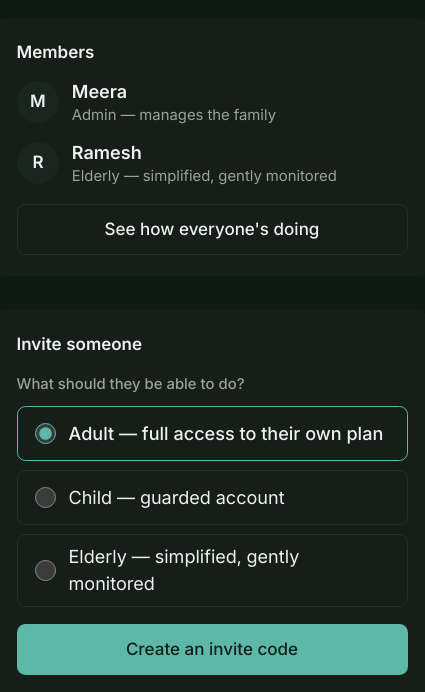
Test: family screen — in a family › shows an issued code once, and says so
(page scrolled)
Click the button "Create an invite code" at (212, 649), box [16,624,408,675]
(page scrolled)
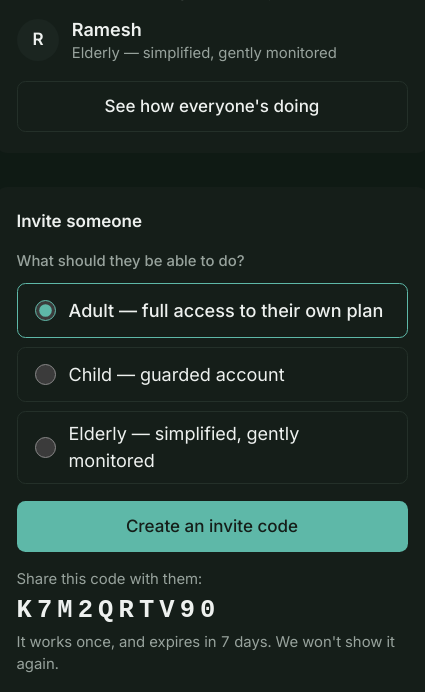
Expected: the text "K7M2QRTV90" is shown, [16,596,220,625]
Expected: the text "It works once, and expires in 7 days. We won't show it again." is shown, [16,632,408,675]
